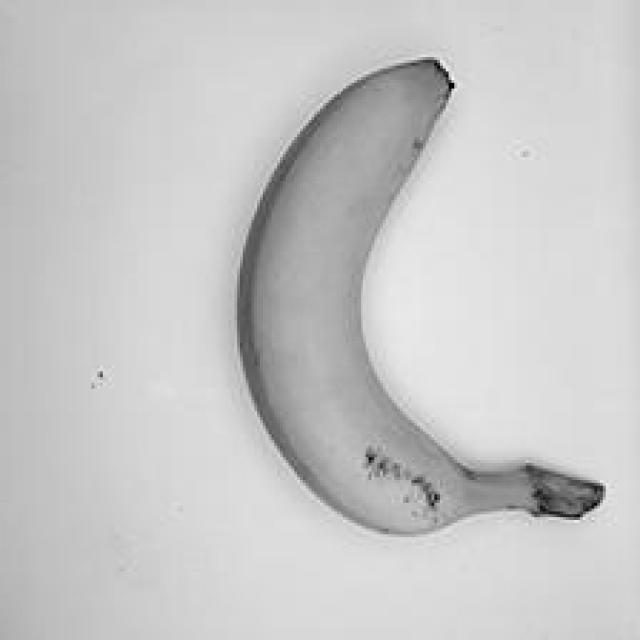Unripe: (199, 37, 625, 560)
